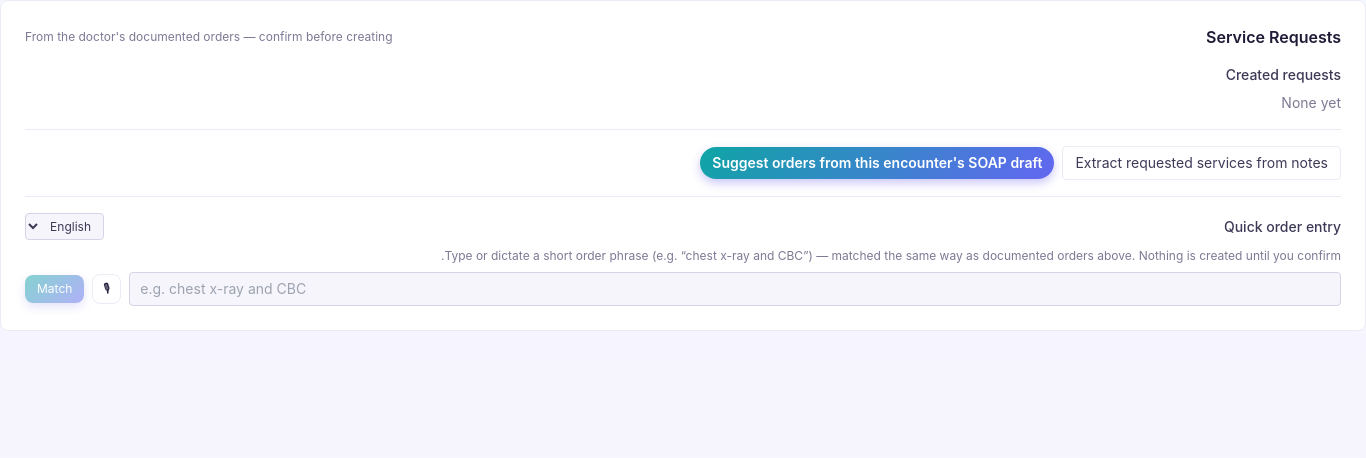
ServiceRequestPanel — SOAP draft suggestions › matches candidates from the SOAP text and labels the queue honestly
This screenshot has width=1366, height=458.
Step 1. Click the button "Suggest orders from this encounter's SOAP draft" → {"x": 877, "y": 163}, box [700,147,1054,179]
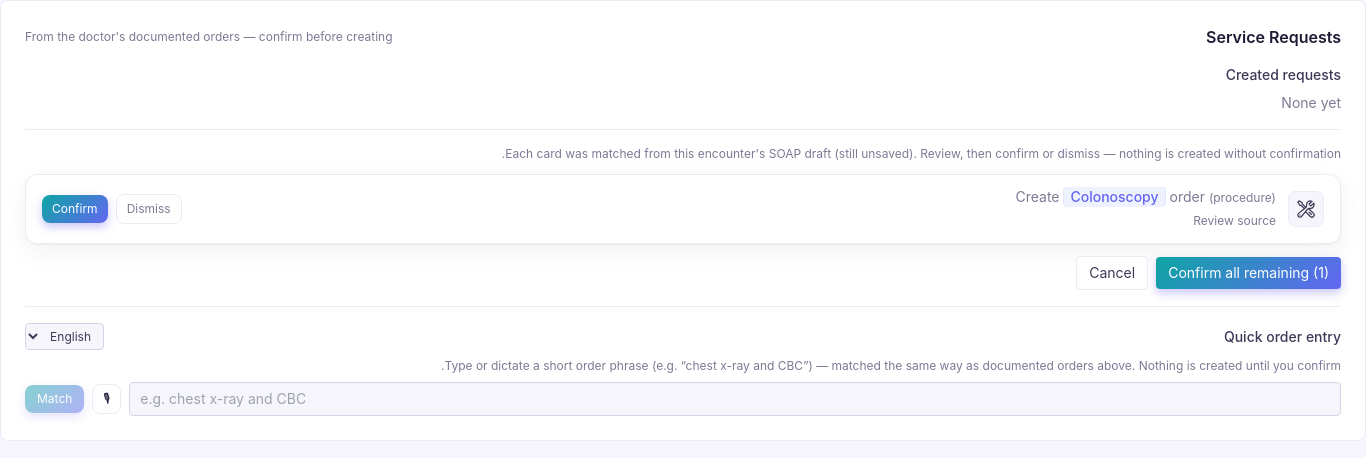
Now the text "matched from this encounter's SOAP draft" is shown, box [502,146,1341,161]
Now the text "Colonoscopy" is shown, box [1064,187,1166,207]
Now the button "Confirm" is shown, box [42,195,108,223]
